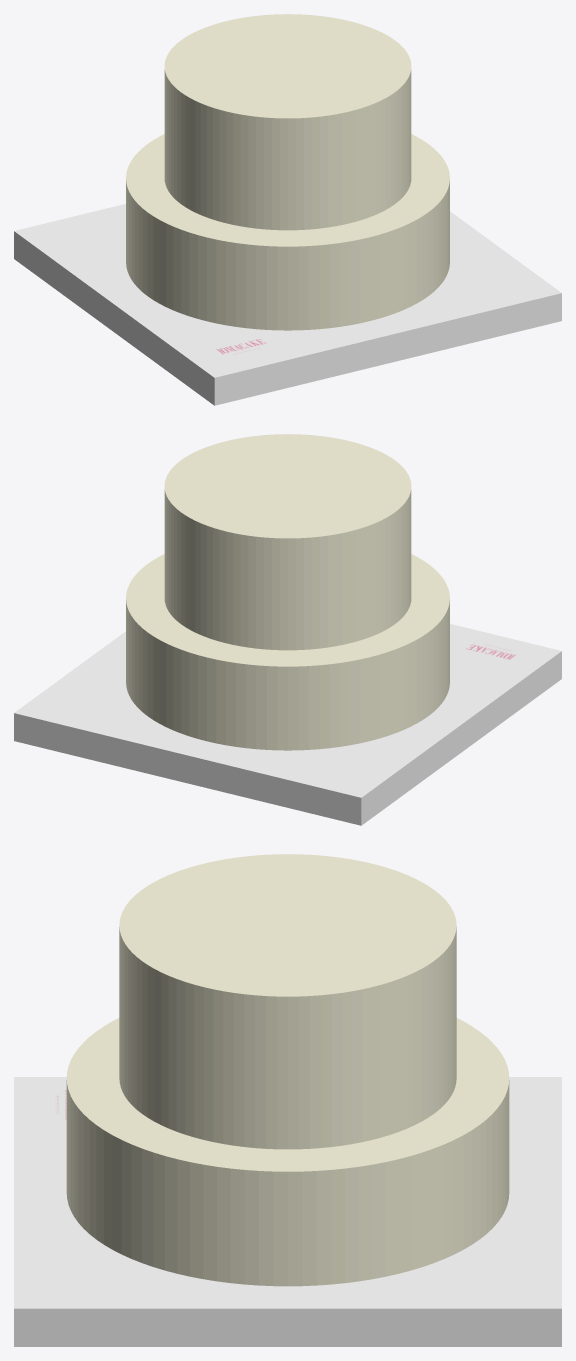
The model's file is cake_tier2_8-6_layers2_v33.glb.
The picture shows the model from 3 angles, top to bottom: view 1: azimuth 30°, elevation 25°; view 2: azimuth 150°, elevation 25°; view 3: azimuth 270°, elevation 25°; orthographic projection. The views are drawn at different scales.
Visible parts, largest first — view 1: Tier1, Board, Tier0, Logo; view 2: Tier1, Board, Tier0, Logo; view 3: Tier1, Tier0, Board, Logo.
Part boxes in pixels (<box>): Tier1: <box>164,14,411,230</box>; Board: <box>14,204,561,405</box>; Tier0: <box>126,134,449,330</box>; Logo: <box>207,335,278,360</box>; Tier1: <box>164,434,411,650</box>; Board: <box>14,624,561,825</box>; Tier0: <box>126,554,449,750</box>; Logo: <box>457,638,528,663</box>; Tier1: <box>119,854,456,1149</box>; Tier0: <box>66,1018,509,1286</box>; Board: <box>14,1077,561,1346</box>; Logo: <box>47,1086,66,1123</box>.
Size of the model in its own units: 0.26 by 0.16 by 0.26.
